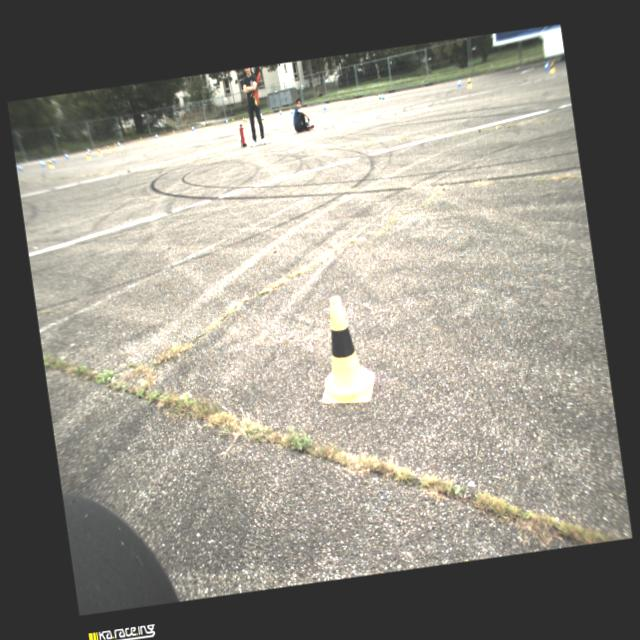blue_cone: (17, 163, 24, 172), (543, 61, 549, 70), (40, 159, 46, 168), (457, 78, 462, 88), (51, 156, 56, 164), (381, 92, 385, 100), (64, 152, 69, 158), (323, 103, 327, 110), (86, 148, 90, 154), (279, 109, 282, 115), (290, 108, 293, 114), (226, 118, 228, 125), (156, 133, 158, 139), (192, 126, 194, 132), (260, 112, 262, 118), (118, 142, 120, 146)
yellow_cone: (310, 293, 380, 407), (548, 61, 557, 73), (105, 144, 112, 154), (466, 78, 472, 89), (48, 159, 54, 169), (86, 151, 92, 160), (378, 94, 383, 104), (96, 148, 102, 156), (242, 116, 246, 125), (114, 142, 118, 150), (244, 118, 248, 126), (261, 116, 265, 124), (140, 136, 143, 144), (232, 118, 235, 125), (172, 130, 175, 136), (204, 123, 206, 130)
